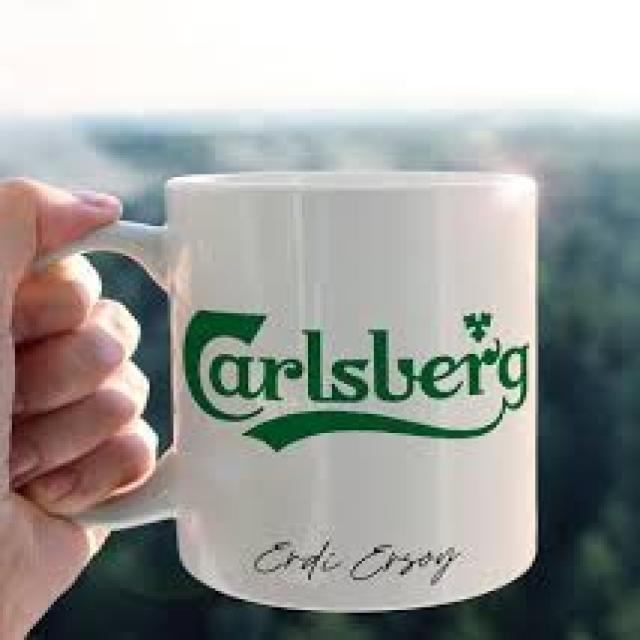taza: (21, 171, 538, 609)
